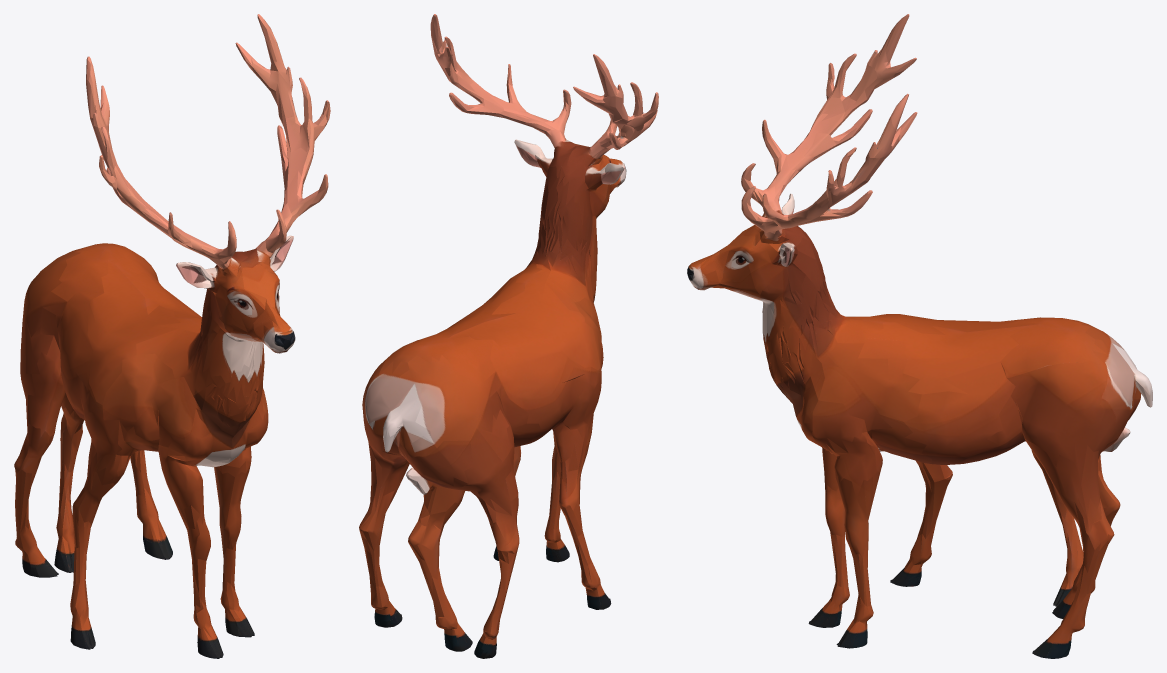
The model's file is deer.glb.
3 renders of one model, left to right at view 1: azimuth 30°, elevation 25°; view 2: azimuth 150°, elevation 25°; view 3: azimuth 270°, elevation 25°, orthographic. The views are drawn at different scales.
Size of the model in its own units: 0.7827 by 1.9 by 1.4.
Materials: 1 (1 with a texture image).
